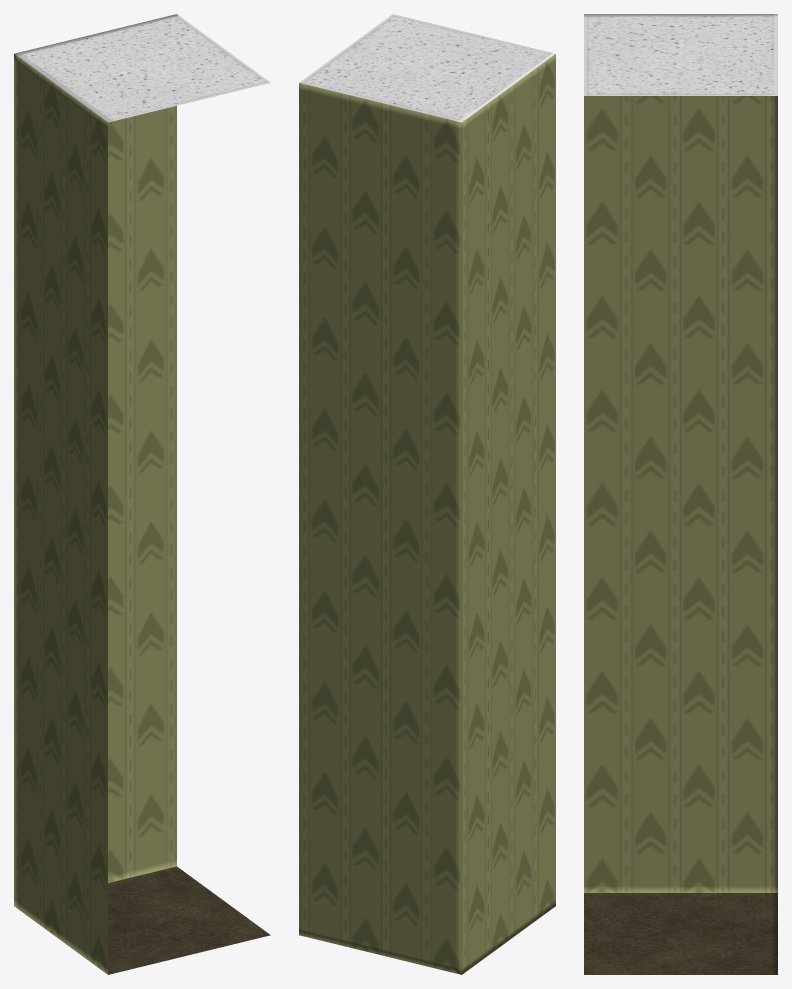
Rendered from TileInvCorner.gltf.
3 views of the same model, side by side, from view 1: azimuth 30°, elevation 25°; view 2: azimuth 150°, elevation 25°; view 3: azimuth 270°, elevation 25° (orthographic). The views are drawn at different scales.
Visible parts, largest first — view 1: [intangible]InvCorner; view 2: [intangible]InvCorner; view 3: [intangible]InvCorner.
Part boxes in pixels (x1,y1,x2,y2): [intangible]InvCorner: [14, 14, 270, 974]; [intangible]InvCorner: [299, 14, 555, 974]; [intangible]InvCorner: [584, 14, 777, 974].
Size of what is drawn, in the model's own units: 0.5 by 2.5 by 0.5.
Materials: 3 (3 with a texture image).
